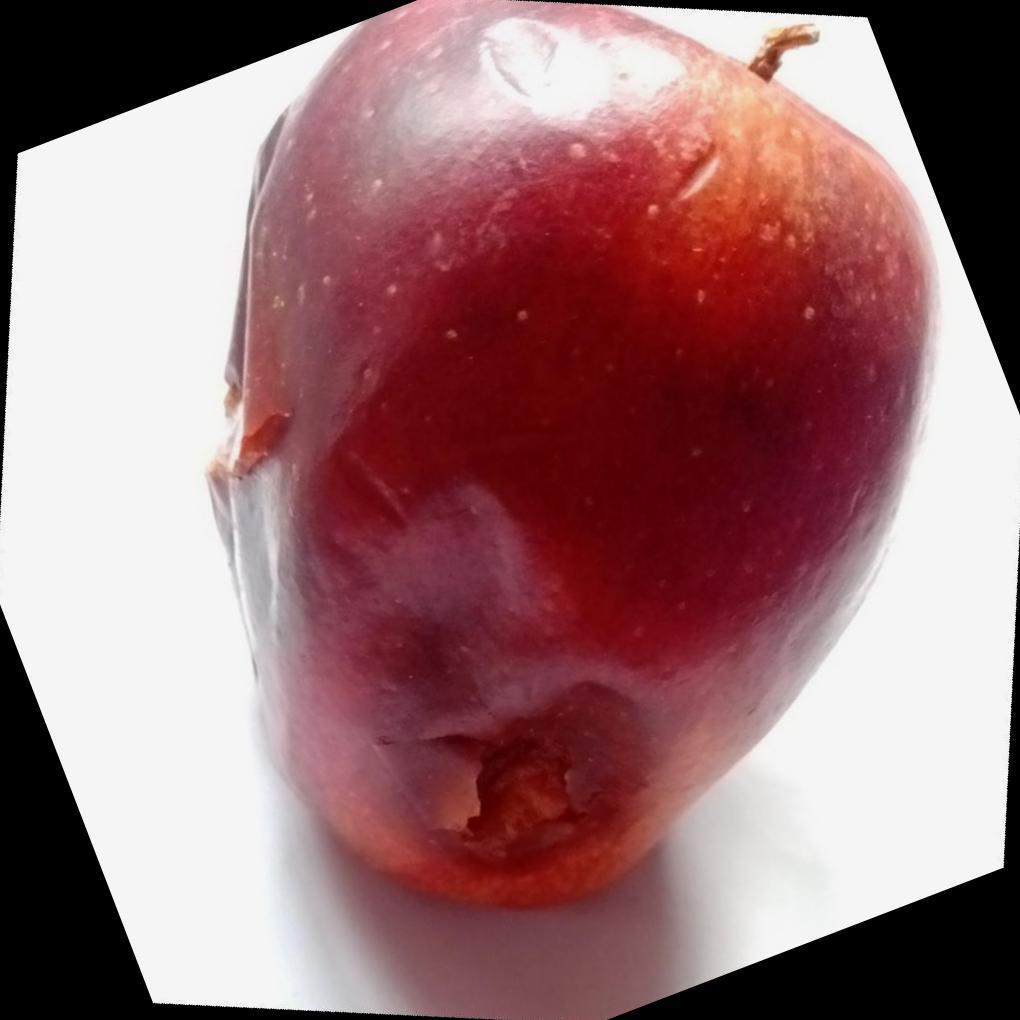FreshOrange: (201, 0, 941, 917)
